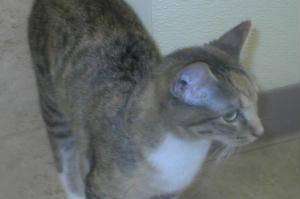cat: (27, 0, 300, 199)
